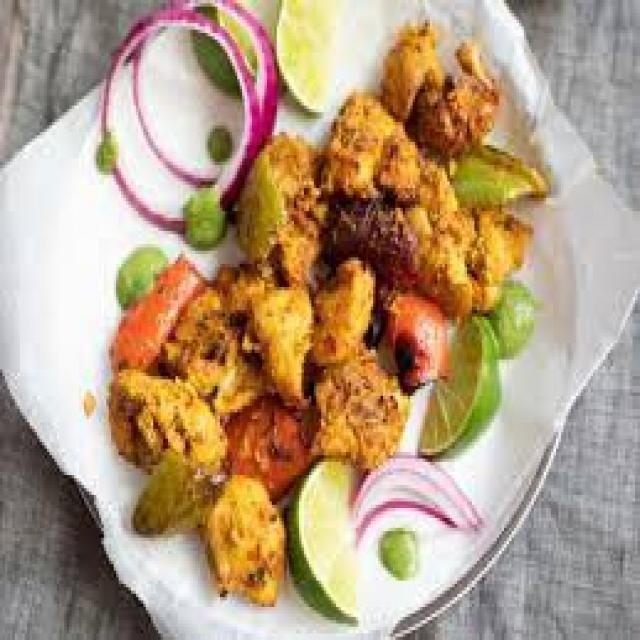Chicken Tikka: (104, 17, 553, 607)
